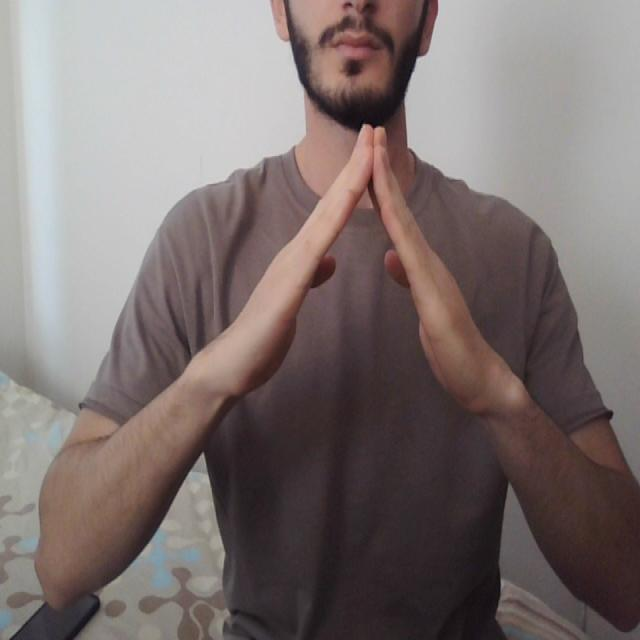Ev: (221, 115, 523, 419)
